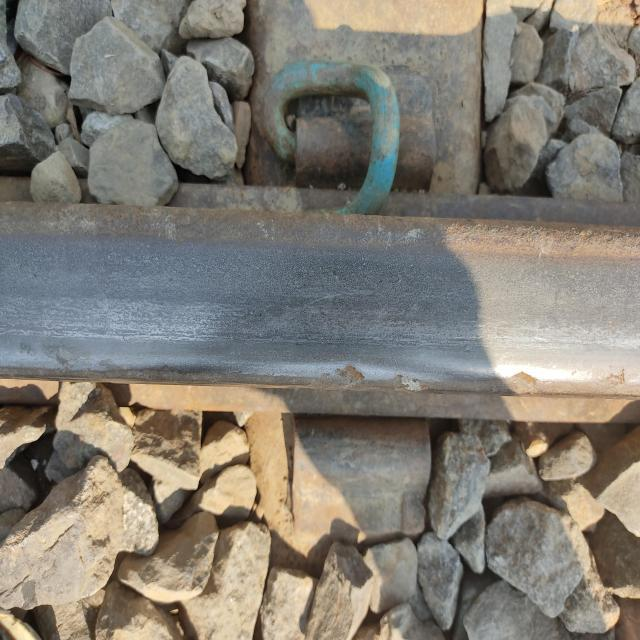broken_rail_medium: (321, 362, 365, 386), (392, 372, 432, 392), (509, 368, 539, 393), (607, 366, 627, 390), (20, 335, 34, 359)
